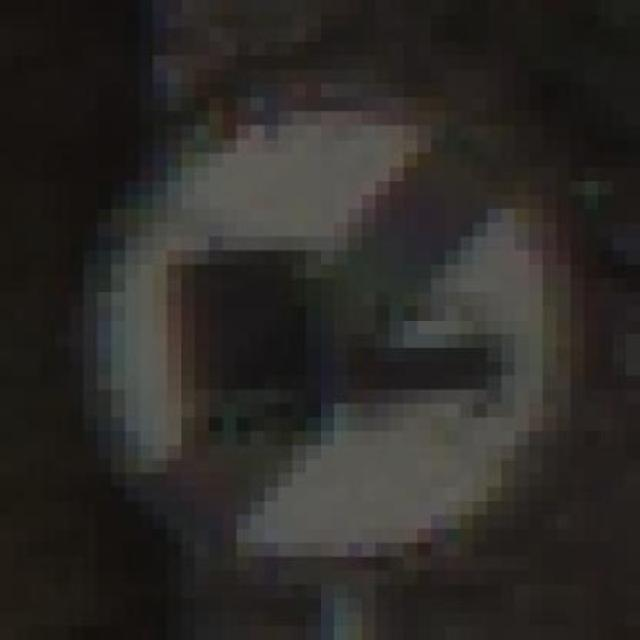Overtaking by trucks is prohibited: (56, 56, 584, 584)
